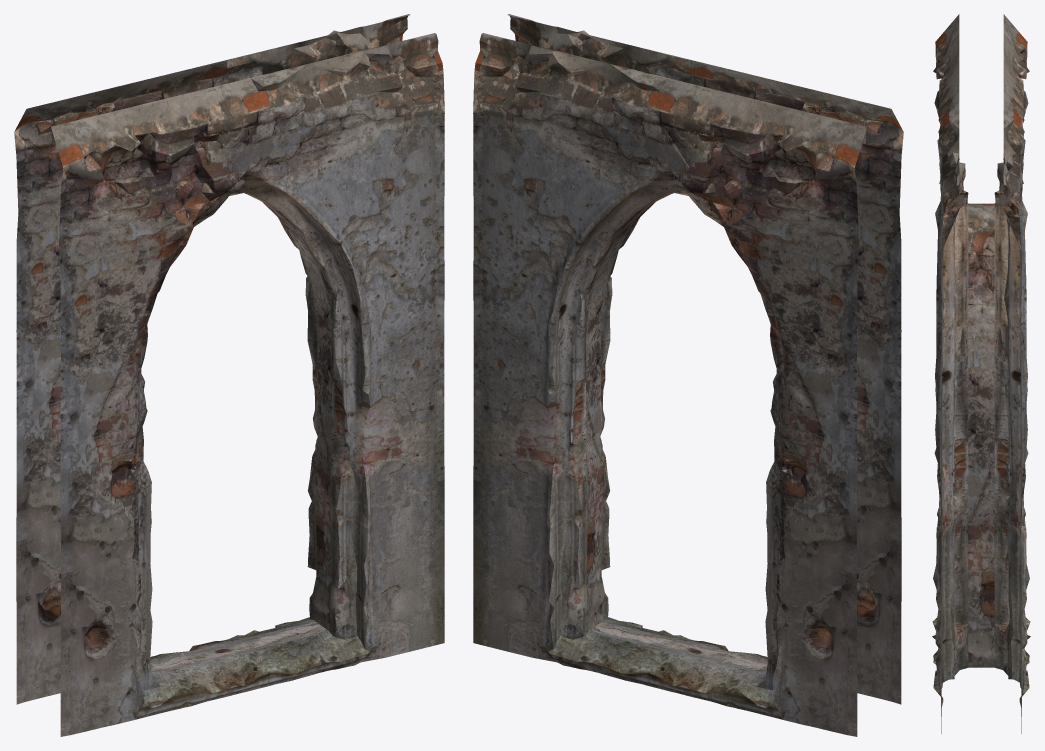
The model's file is SM_ChapelWall_02_01.fbx.
3 renders of one model, left to right at view 1: azimuth 30°, elevation 25°; view 2: azimuth 150°, elevation 25°; view 3: azimuth 270°, elevation 25°, orthographic. The views are drawn at different scales.
Parts seen in each view (by area): view 1: sm_ChapelWall_02_01_LOD0; view 2: sm_ChapelWall_02_01_LOD0; view 3: sm_ChapelWall_02_01_LOD0.
Part boxes in pixels (x1=…): sm_ChapelWall_02_01_LOD0: x1=14, y1=14, x2=444, y2=736; sm_ChapelWall_02_01_LOD0: x1=473, y1=14, x2=903, y2=736; sm_ChapelWall_02_01_LOD0: x1=932, y1=14, x2=1030, y2=733.
Bounding box in the file's own units: 60.87 × 250 × 375.
